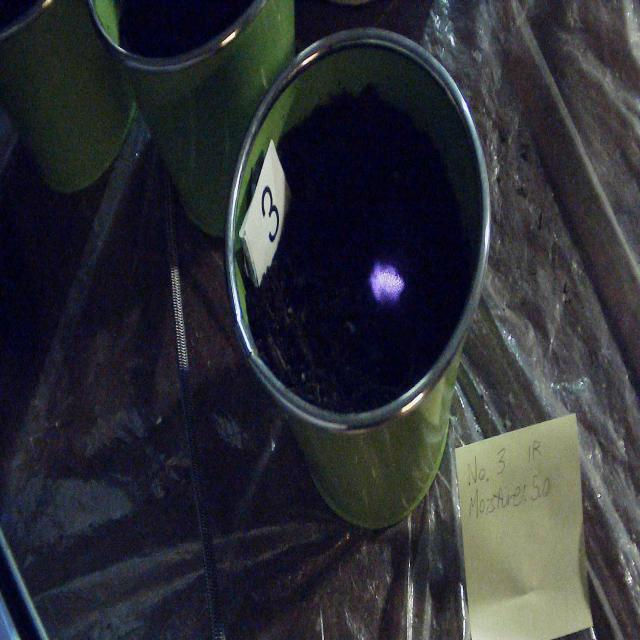soil-moisture-5.0: (369, 260, 404, 307)
